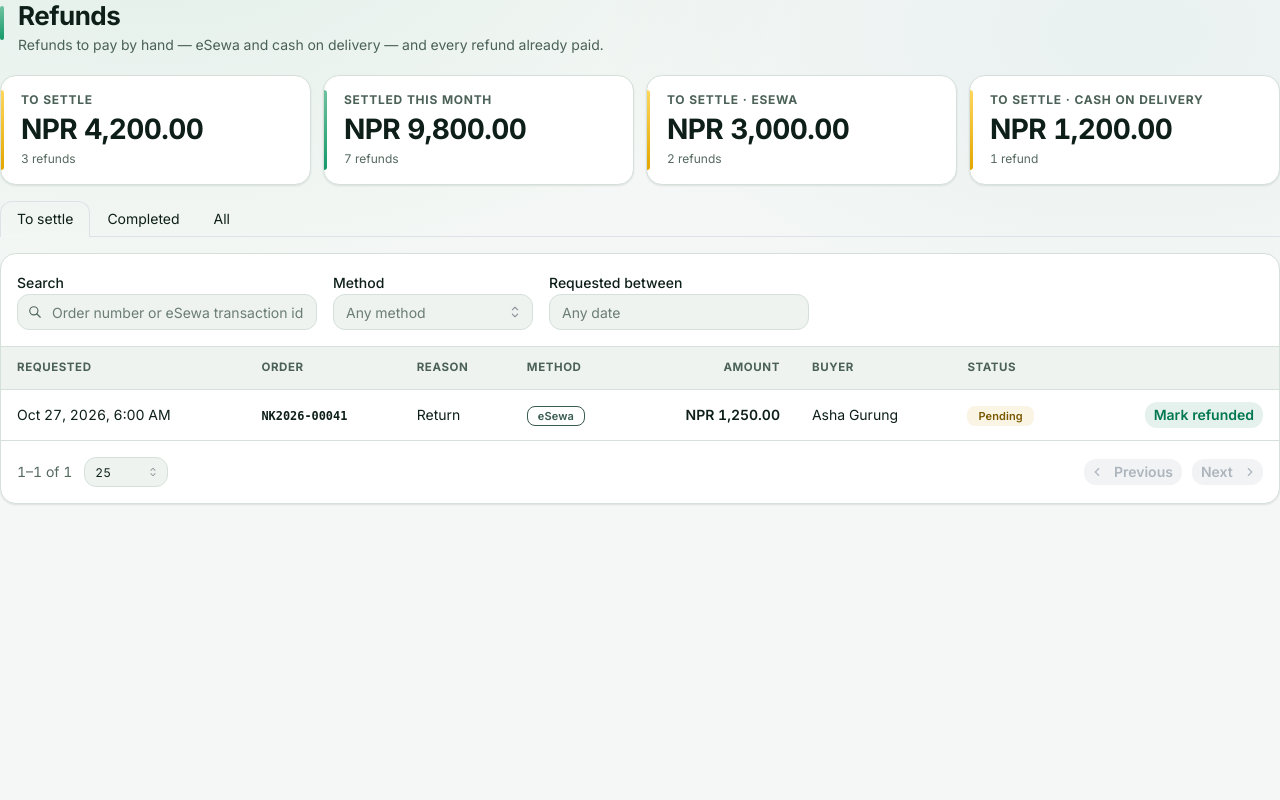
mark refunded › tells the desk what to do for eSewa, sends the body with an Idempotency-Key and refreshes
Check: the element with test id "refunds-summary" is shown, box top-left (0, 76), bottom-right (1279, 185)
Click the button "Mark refunded".
click(1204, 415)  # box top-left (1145, 402), bottom-right (1263, 428)
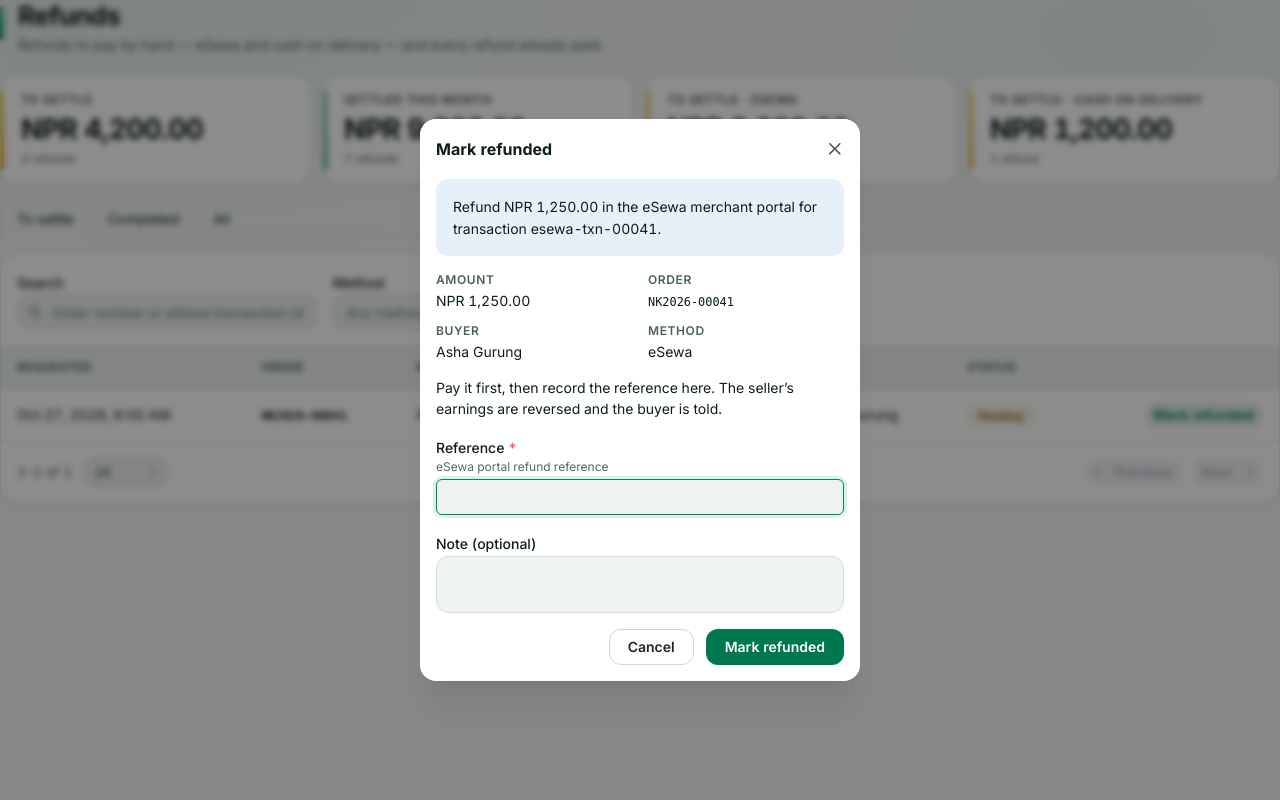
Type "ESW-REF-9" into the field labelled "Reference *".
click(640, 497); type("ESW-REF-9")  # box top-left (436, 479), bottom-right (844, 515)
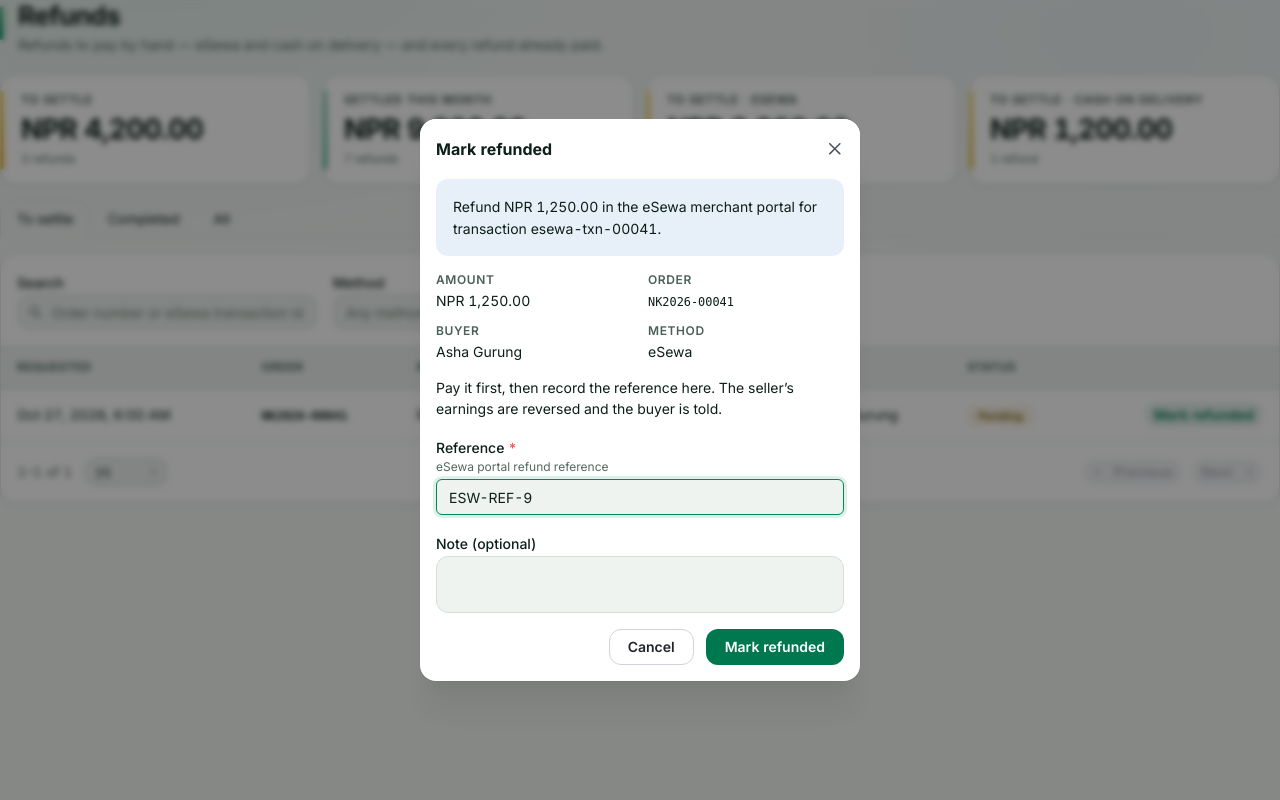
Type "paid from the portal" into the text box labelled "Note (optional)".
click(640, 585); type("paid from the portal")  # box top-left (436, 556), bottom-right (844, 613)
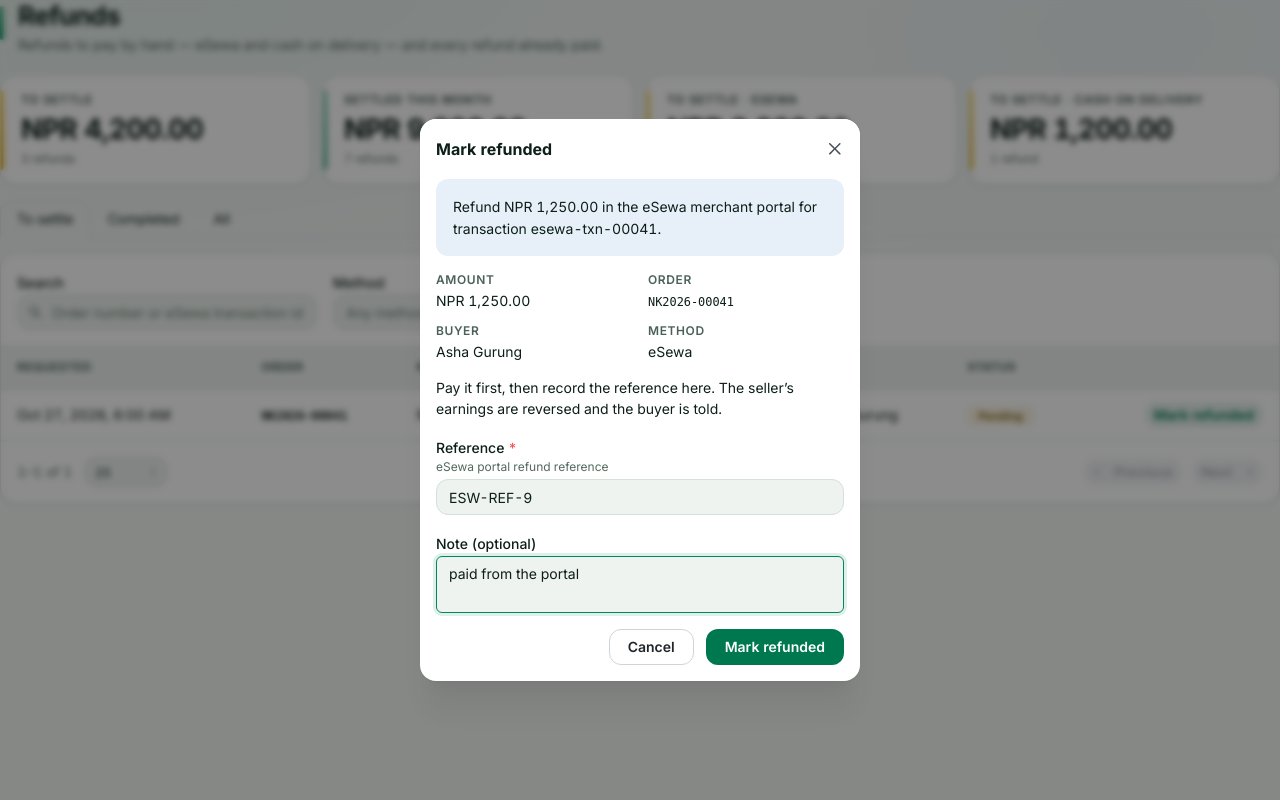
Click the button "Mark refunded".
click(775, 647)  # box top-left (706, 629), bottom-right (844, 665)
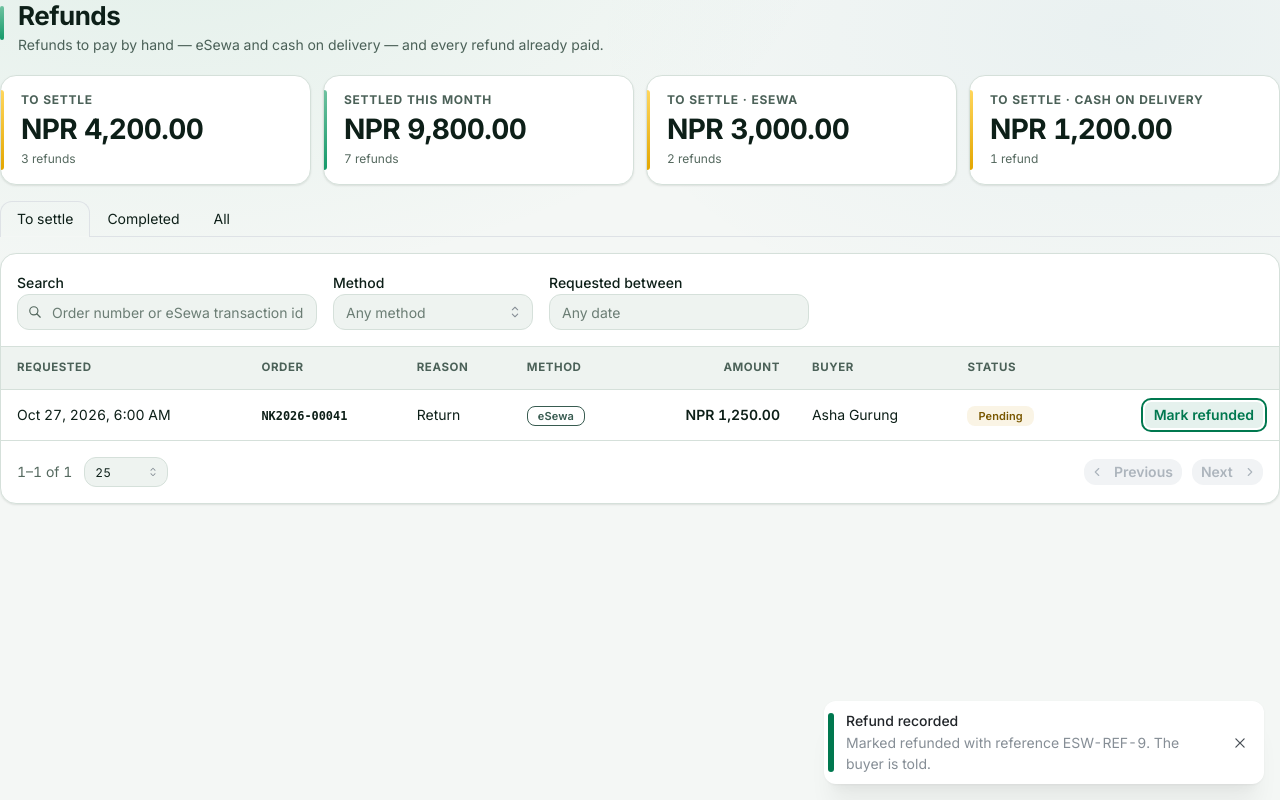
Check: the message with test id "refund-instruction" is gone
